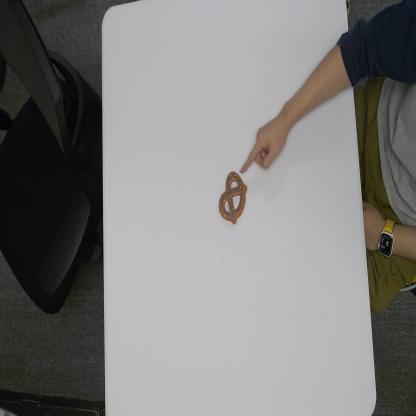Arm: (288, 13, 352, 151)
Hand: (242, 114, 287, 177)
Pretzel: (217, 167, 249, 226)
